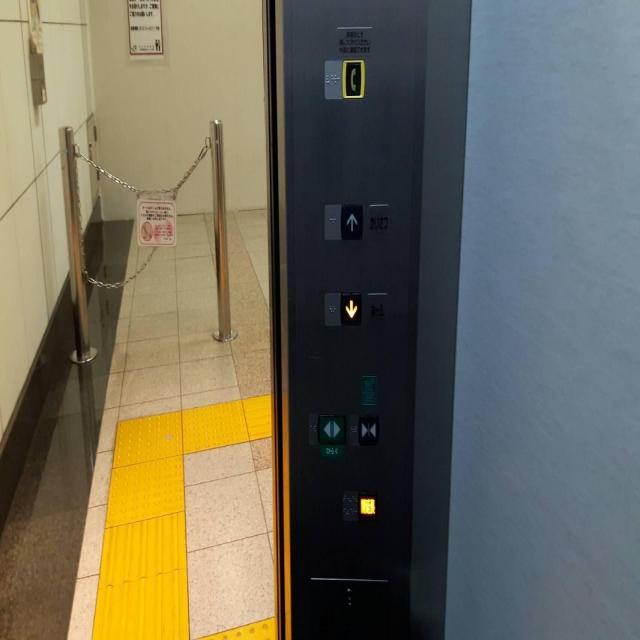call: (342, 58, 364, 98)
close: (358, 414, 379, 444)
down: (340, 290, 362, 327)
open: (317, 413, 346, 445)
text: (357, 490, 378, 520)
up: (340, 202, 364, 241)
